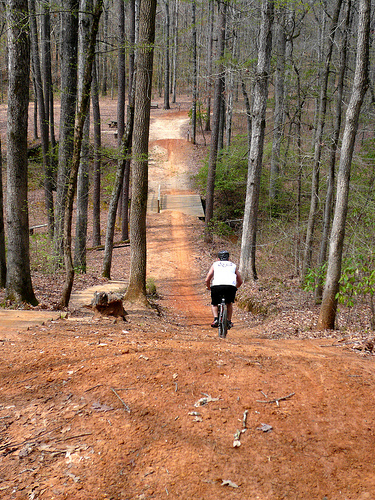helmet: (214, 250, 232, 261)
